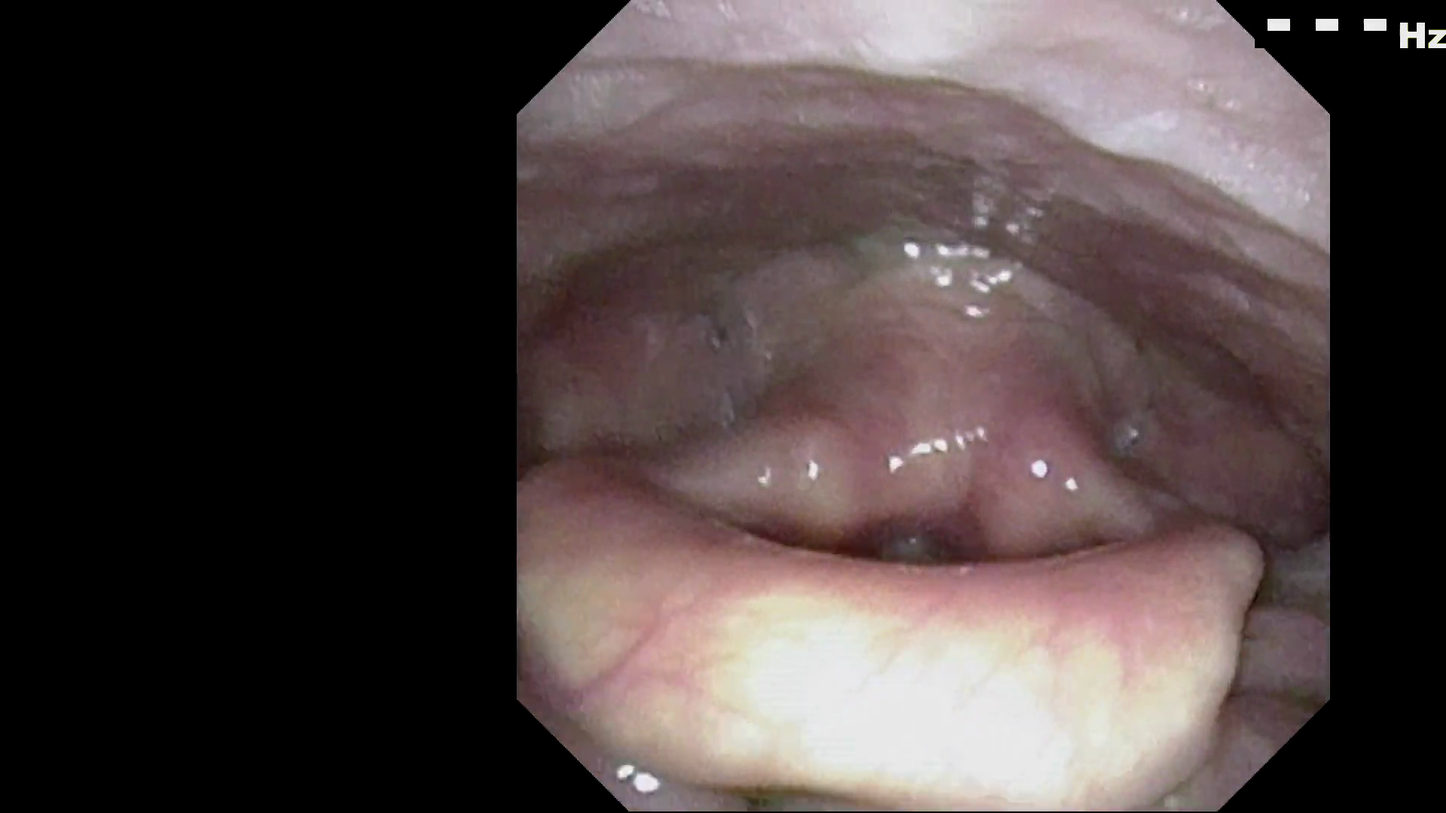epiglottis: (589, 519, 1255, 772)
trachea: (864, 450, 1005, 612)
